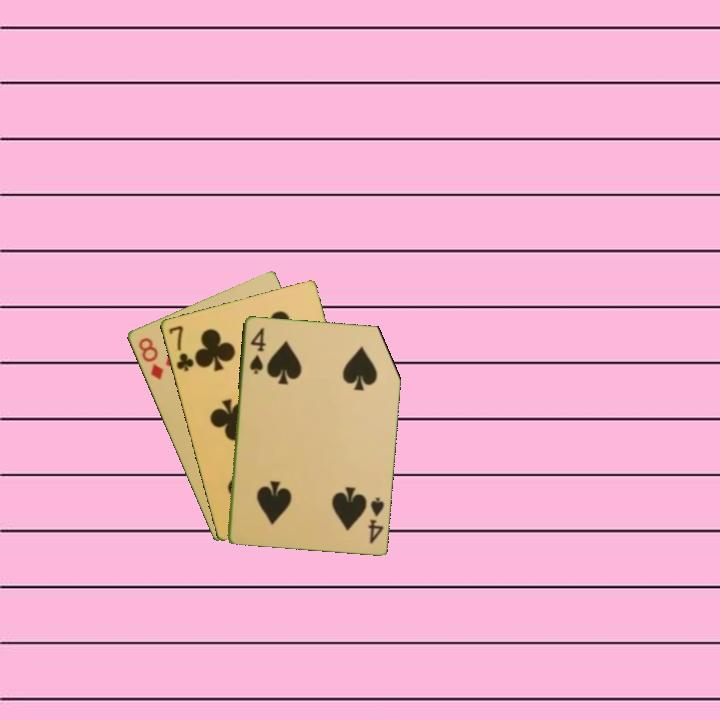4s: (364, 493, 386, 546), (246, 324, 267, 377)
7c: (165, 322, 196, 374)
8d: (135, 334, 166, 383)
